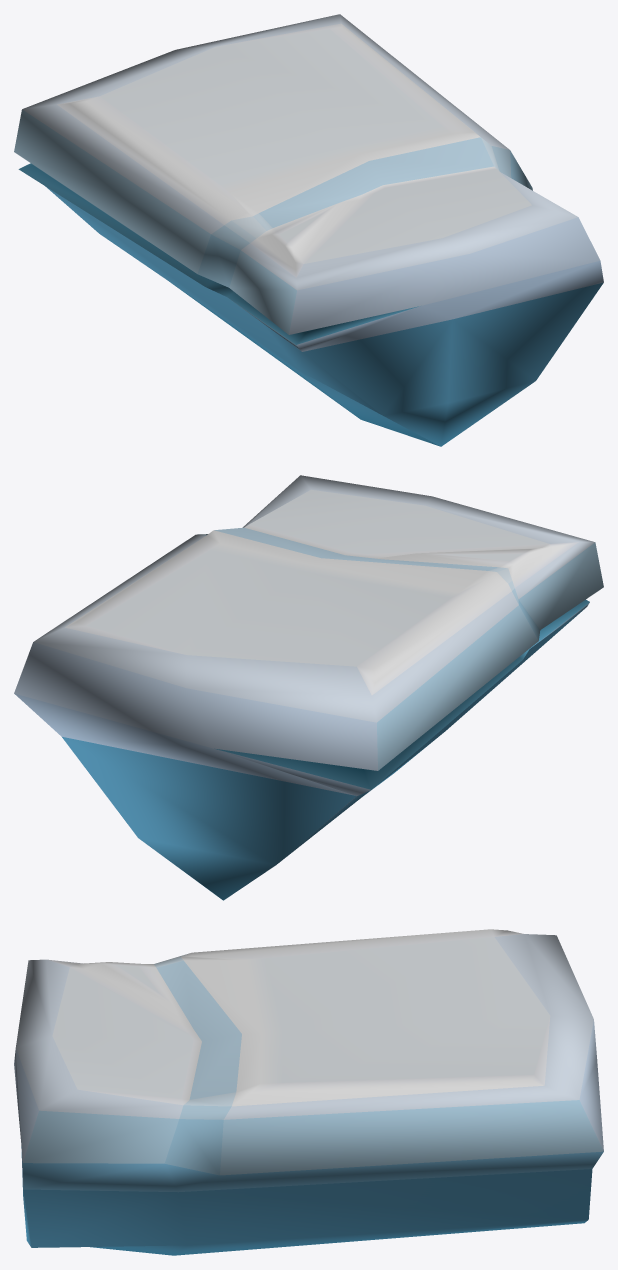
Rendered from RepeatableIcePath.glb.
3 renders of one model, top to bottom at view 1: azimuth 30°, elevation 25°; view 2: azimuth 150°, elevation 25°; view 3: azimuth 270°, elevation 25°, orthographic. The views are drawn at different scales.
Parts seen in each view (by area): view 1: RepeatableIcePath; view 2: RepeatableIcePath; view 3: RepeatableIcePath.
Boxes of the visible parts, x1,y1,x2,y2 form: RepeatableIcePath: (14, 14, 603, 446); RepeatableIcePath: (14, 475, 603, 900); RepeatableIcePath: (14, 929, 603, 1255).
Size of the model in its own units: 202 by 130 by 268.
